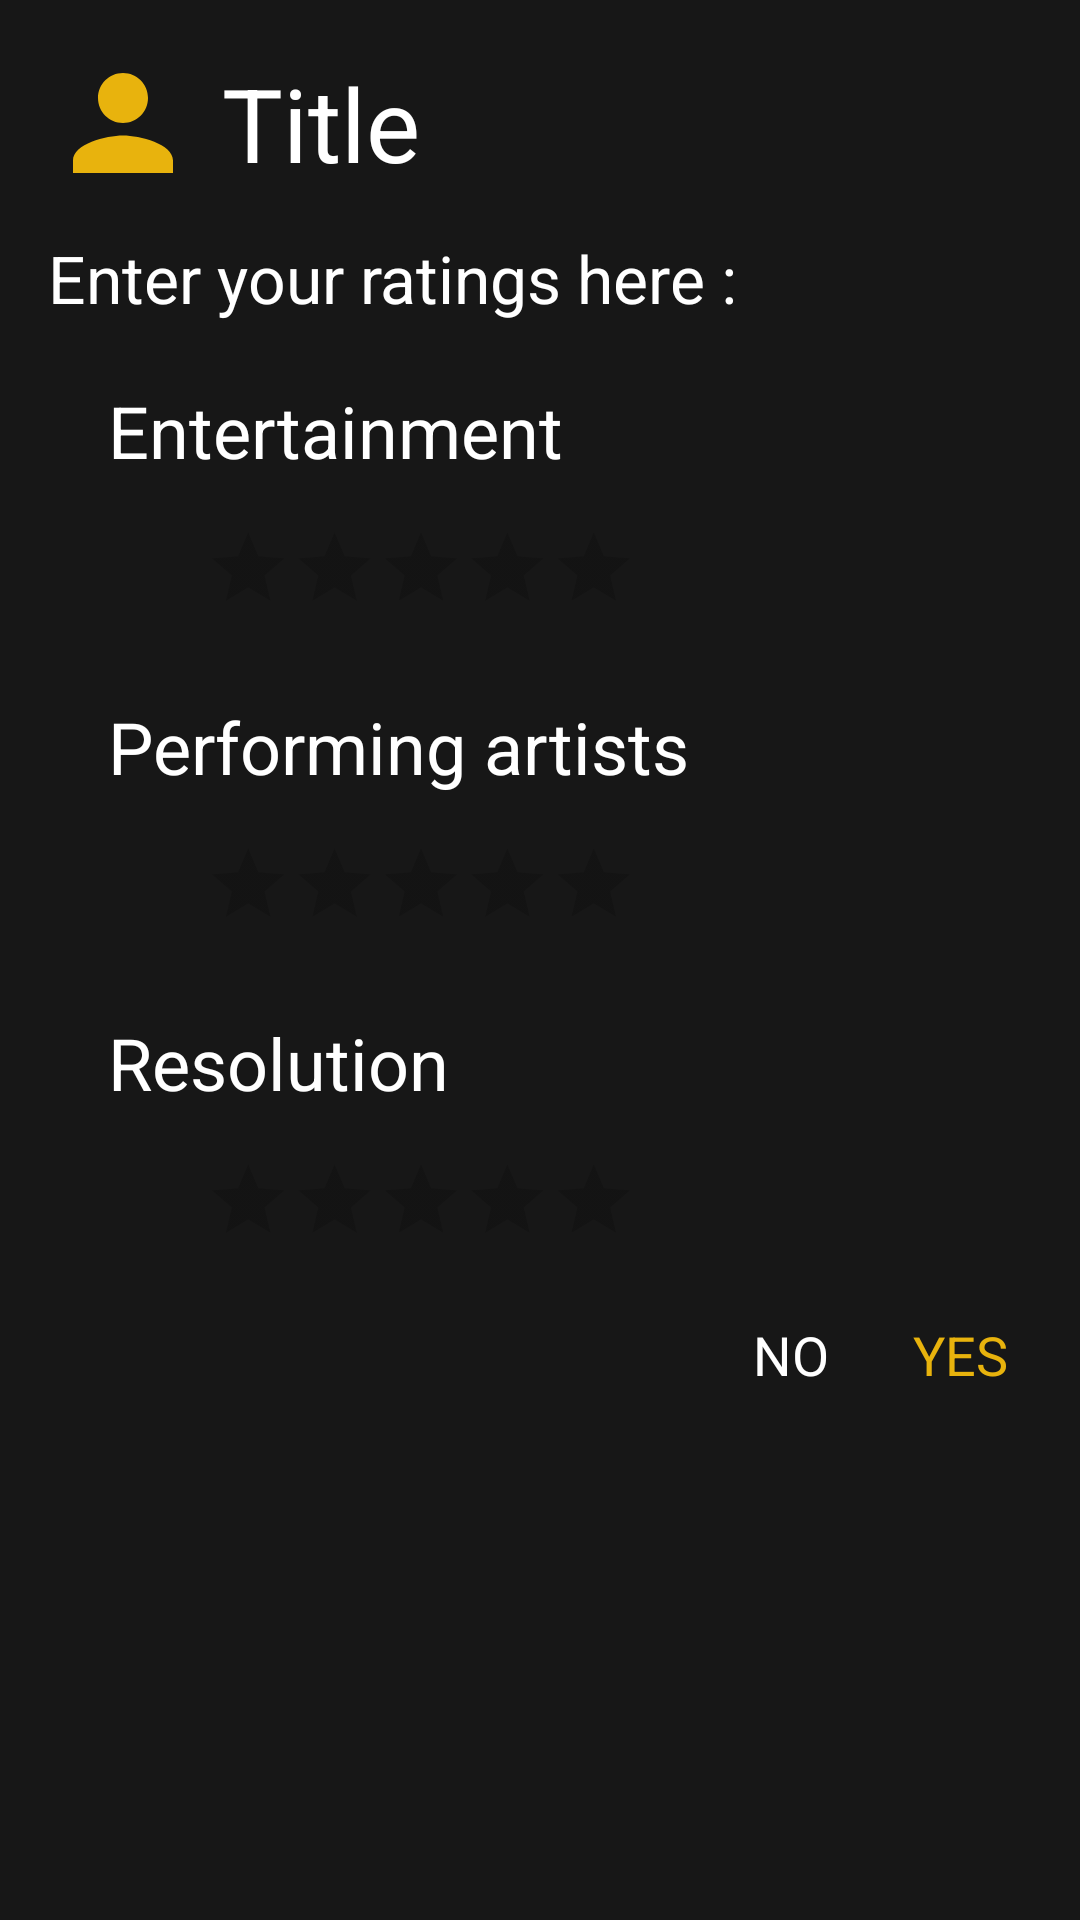

Where to tap for icons on this 1080 x 1920 app screen, as point (x, y):
person yallow: point (123, 123)
